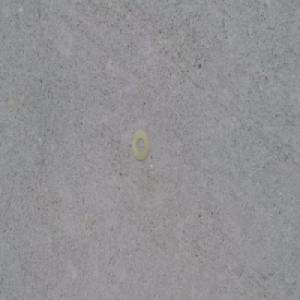Washer: (132, 129, 150, 163)
